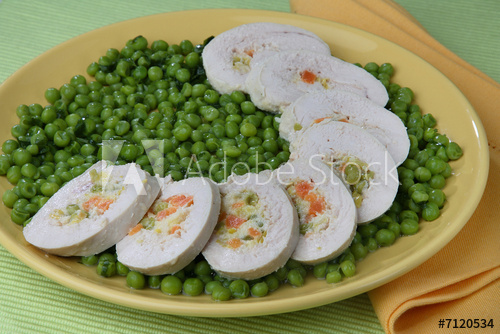boiled peas: (19, 61, 285, 179), (404, 88, 468, 244)
